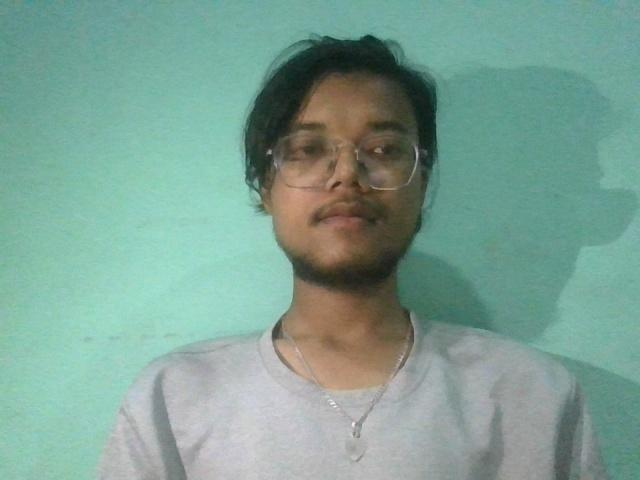hello: (393, 223, 494, 359)
